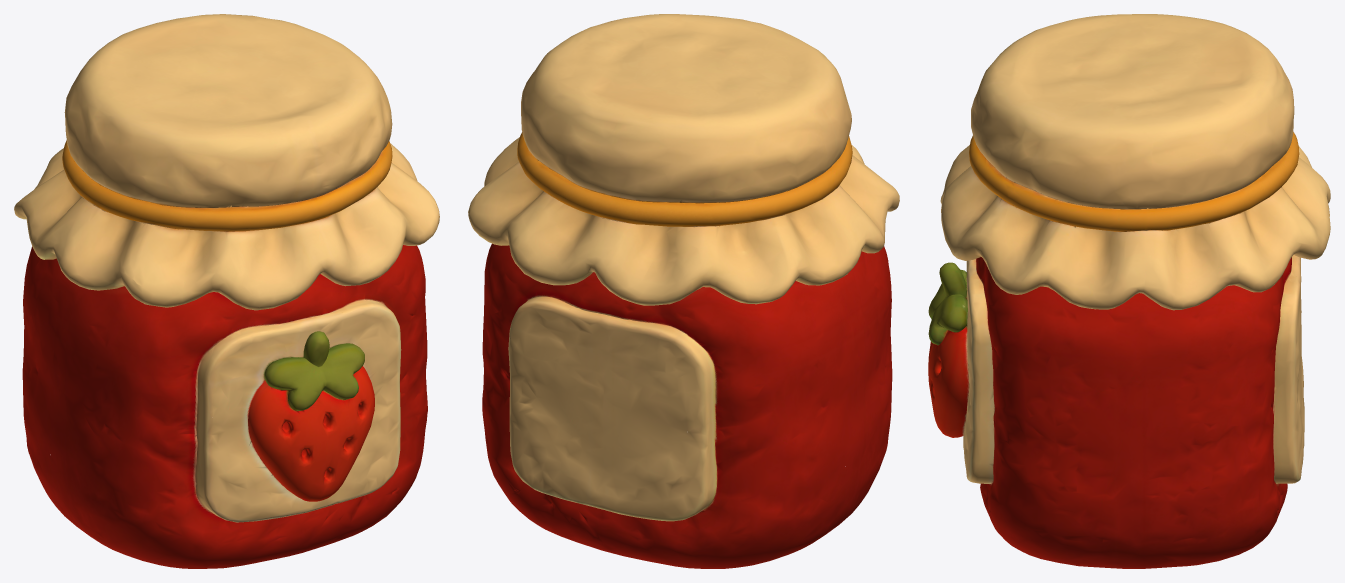
File: jam.glb
3 renders of one model, left to right at view 1: azimuth 30°, elevation 25°; view 2: azimuth 150°, elevation 25°; view 3: azimuth 270°, elevation 25°, orthographic.
Bounding box in the file's own units: 0.829 × 0.9804 × 0.7925.
Materials: 1 (1 with a texture image).
